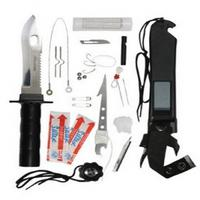knife: (11, 10, 50, 175), (93, 72, 116, 166)
